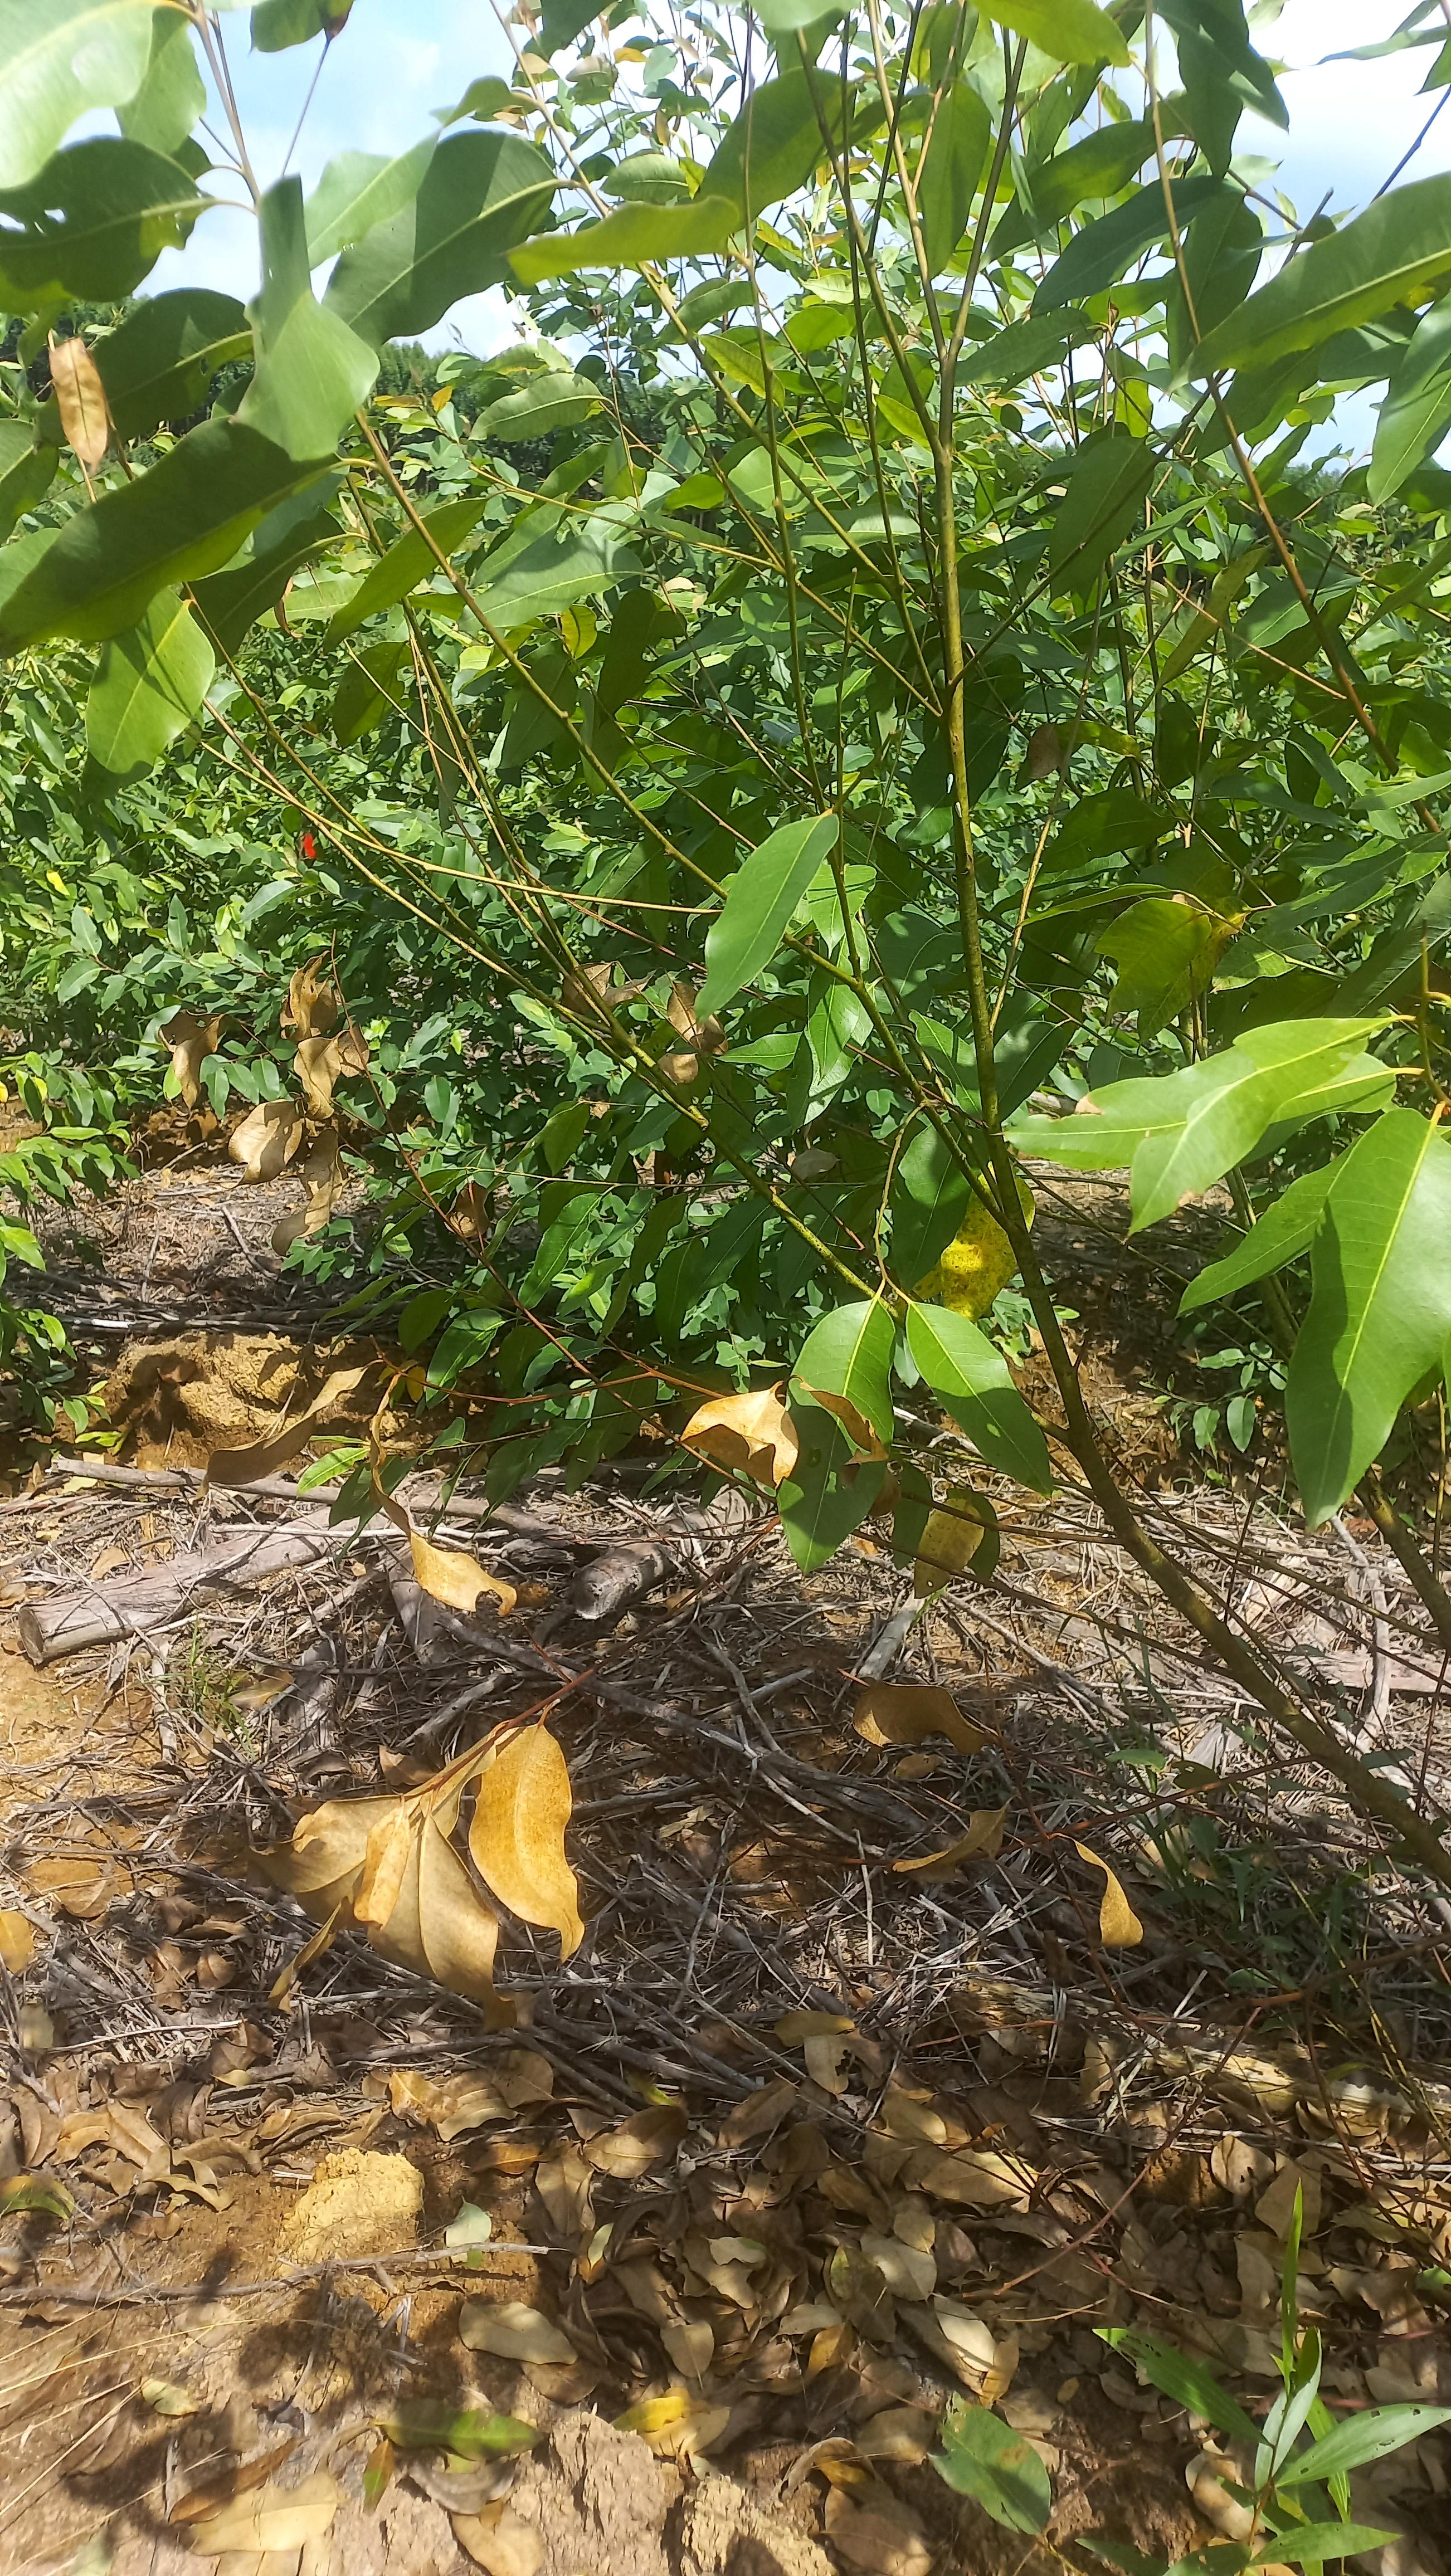Wither Tree Parts: (237, 1723, 619, 2028), (207, 1346, 538, 1635), (679, 1361, 1026, 1587), (207, 947, 393, 1237), (0, 324, 147, 494), (929, 1150, 1049, 1304)
